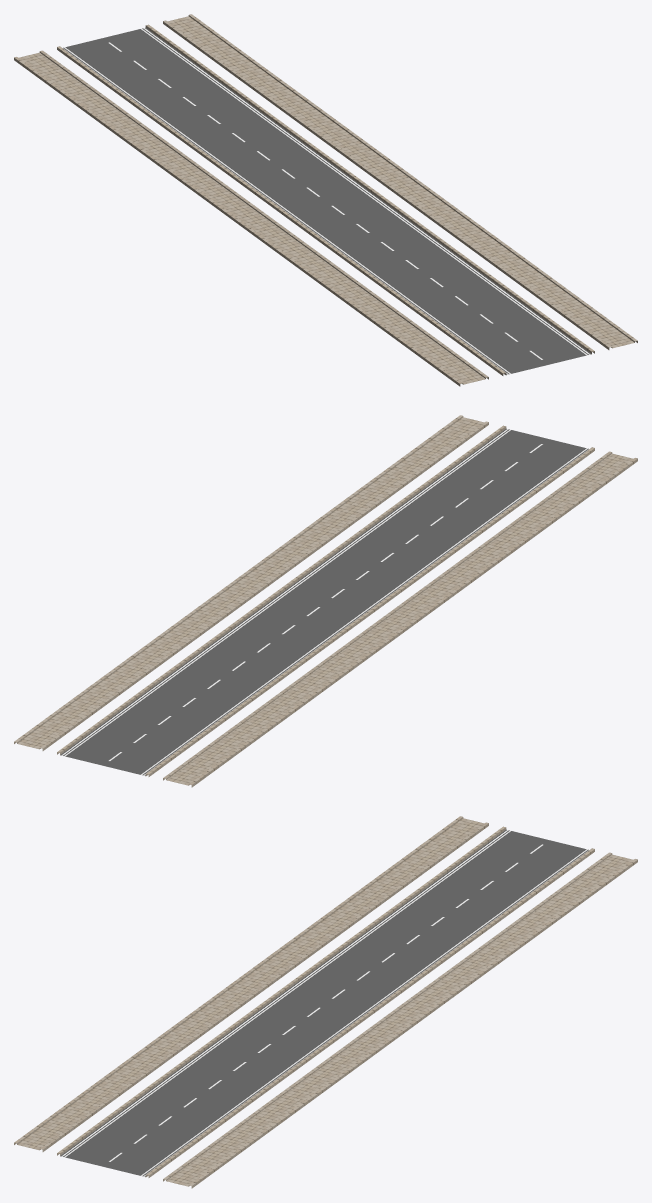
The model's file is Street1Lane90m.FBX.
The picture shows the model from 3 angles, top to bottom: view 1: azimuth 30°, elevation 25°; view 2: azimuth 150°, elevation 25°; view 3: azimuth 330°, elevation 25°; orthographic projection.
Parts seen in each view (by area): view 1: Street1Lane90m; view 2: Street1Lane90m; view 3: Street1Lane90m.
Part boxes in pixels (bbox=[...]): Street1Lane90m: bbox=[14, 14, 637, 386]; Street1Lane90m: bbox=[14, 415, 637, 787]; Street1Lane90m: bbox=[14, 816, 637, 1188].
Size of the model in its own units: 20.7 by 0.3 by 90.
2 materials, 2 textured.
